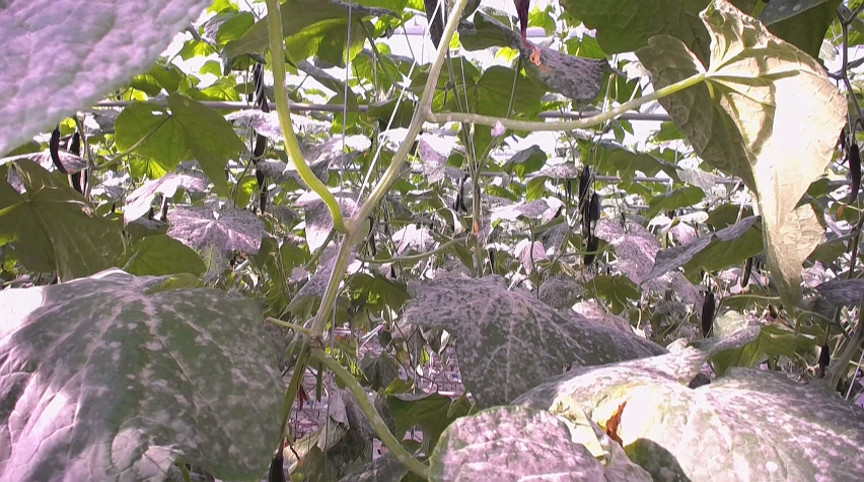cucumber: (584, 195, 601, 265)
